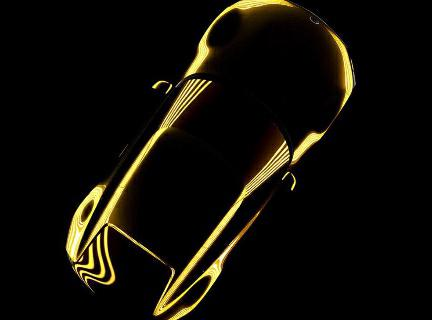起亚-GT4Stinger: (54, 6, 365, 319)
